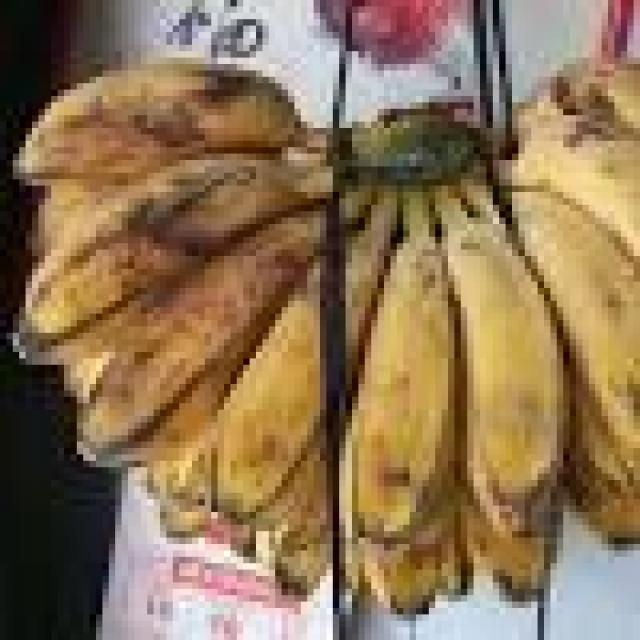Banana: (13, 58, 640, 620), (77, 217, 320, 473), (13, 154, 269, 372), (205, 224, 384, 525), (435, 224, 570, 538), (12, 58, 294, 192), (340, 237, 454, 550), (461, 493, 557, 608), (358, 538, 442, 620)
